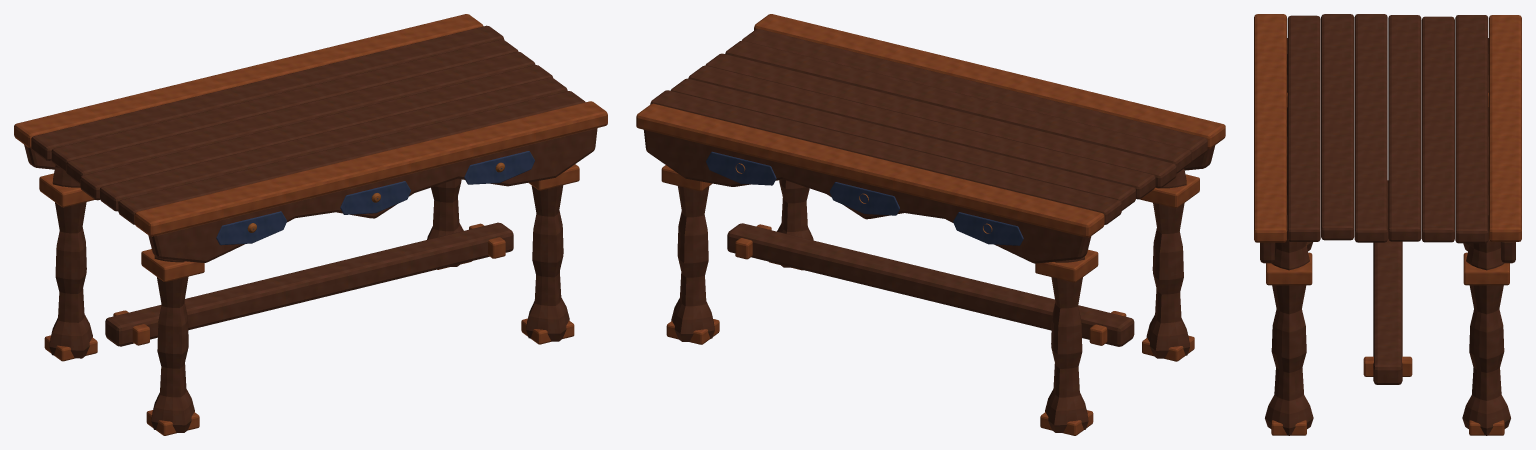
The model's file is hero-shadow-bench.glb.
3 views of the same model, side by side, from view 1: azimuth 30°, elevation 25°; view 2: azimuth 150°, elevation 25°; view 3: azimuth 270°, elevation 25° (orthographic). The views are drawn at different scales.
Visible parts, largest first — view 1: Waxed plum walnut, Pale carved end grain, Indigo-painted insets; view 2: Waxed plum walnut, Pale carved end grain, Indigo-painted insets; view 3: Waxed plum walnut, Pale carved end grain.
Part boxes in pixels (bbox=[...]): Waxed plum walnut: bbox=[24, 25, 597, 432]; Pale carved end grain: bbox=[14, 14, 607, 435]; Indigo-painted insets: bbox=[216, 151, 534, 245]; Waxed plum walnut: bbox=[644, 29, 1215, 432]; Pale carved end grain: bbox=[636, 14, 1225, 435]; Indigo-painted insets: bbox=[706, 151, 1023, 245]; Waxed plum walnut: bbox=[1260, 14, 1515, 435]; Pale carved end grain: bbox=[1254, 14, 1521, 435].
Bounding box in the file's own units: 4.8 × 2.24 × 2.49.
Materials: 4 (4 with a texture image).
